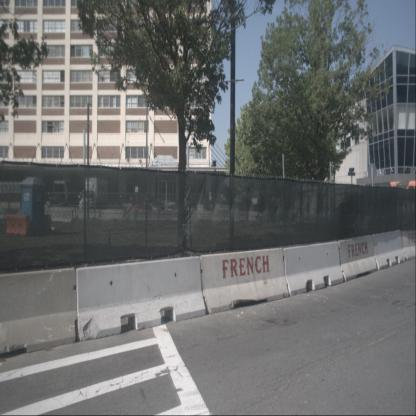movable_object-barrier: (74, 256, 206, 341), (0, 267, 78, 355), (198, 248, 289, 314), (280, 242, 344, 297), (336, 235, 378, 281), (372, 229, 406, 270), (7, 212, 31, 239), (400, 229, 416, 260)
vehicle-truck: (78, 176, 110, 212)
